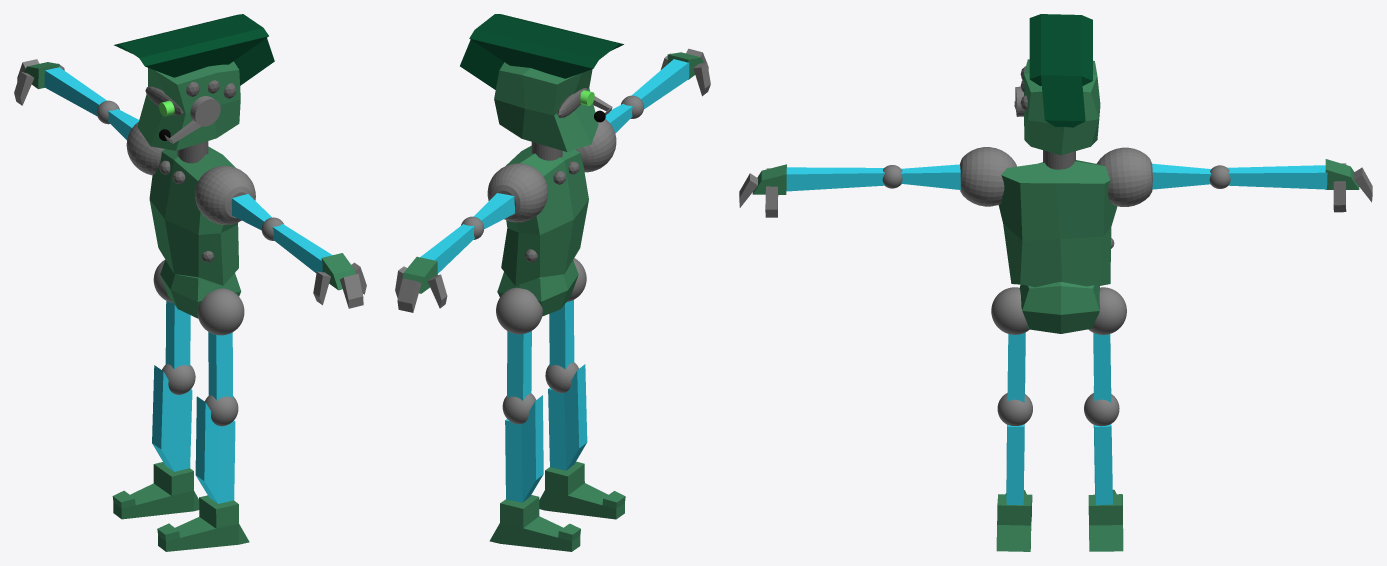
Rendered from shield robOt.fbx.
3 views of the same model, side by side, from view 1: azimuth 30°, elevation 25°; view 2: azimuth 150°, elevation 25°; view 3: azimuth 270°, elevation 25° (orthographic).
Parts seen in each view (by area): view 1: Torso, Crest, head, right leg 2, left leg 2, right foot, left foot, right shoulder, waist, right leg joint, right leg 1, left leg (+12 smaller); view 2: Torso, Crest, head, left leg 2, right leg 2, left foot, right foot, Left shoulder, waist, left leg joint, left leg, right leg 1 (+14 smaller); view 3: Torso, Crest, waist, head, right shoulder, Left shoulder, left arm 2, right arm 2, right foot, left foot, left leg 2, right leg 2 (+8 smaller).
Boxes of the visible parts, x1,y1,x2,y2 form: Torso: (149, 146, 238, 285); Crest: (114, 14, 274, 85); head: (137, 61, 240, 150); right leg 2: (195, 396, 235, 503); left leg 2: (152, 365, 192, 471); right foot: (157, 495, 249, 551); left foot: (112, 462, 199, 519); right shoulder: (195, 166, 255, 224); waist: (160, 260, 241, 318); right leg joint: (197, 288, 244, 335); right leg 1: (208, 332, 232, 400); left leg: (165, 301, 190, 369); Torso: (501, 145, 588, 285); Crest: (460, 14, 623, 89); head: (494, 62, 598, 151); left leg 2: (505, 395, 543, 502); right leg 2: (548, 364, 587, 470); left foot: (489, 495, 580, 551); right foot: (539, 461, 625, 519); Left shoulder: (487, 163, 548, 222); waist: (497, 260, 578, 316); left leg joint: (496, 287, 542, 334); left leg: (507, 331, 531, 400); right leg 1: (549, 300, 574, 369); Torso: (998, 160, 1117, 287); Crest: (1029, 14, 1092, 127); waist: (1019, 282, 1100, 333); head: (1024, 59, 1100, 155); right shoulder: (960, 147, 1016, 206); Left shoulder: (1096, 147, 1152, 206); left arm 2: (1227, 165, 1327, 189); right arm 2: (786, 167, 884, 191); right foot: (996, 490, 1032, 551); left foot: (1088, 489, 1123, 551); left leg 2: (1093, 386, 1112, 505); right leg 2: (1006, 424, 1024, 504).
Size of the model in its own units: 267 by 909 by 1056.
